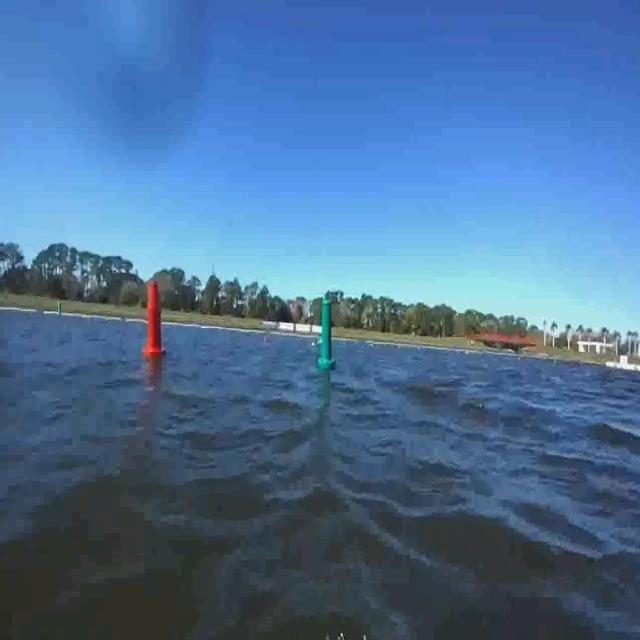green-column-buoy: (316, 298, 336, 370)
red-column-buoy: (143, 280, 165, 358)
